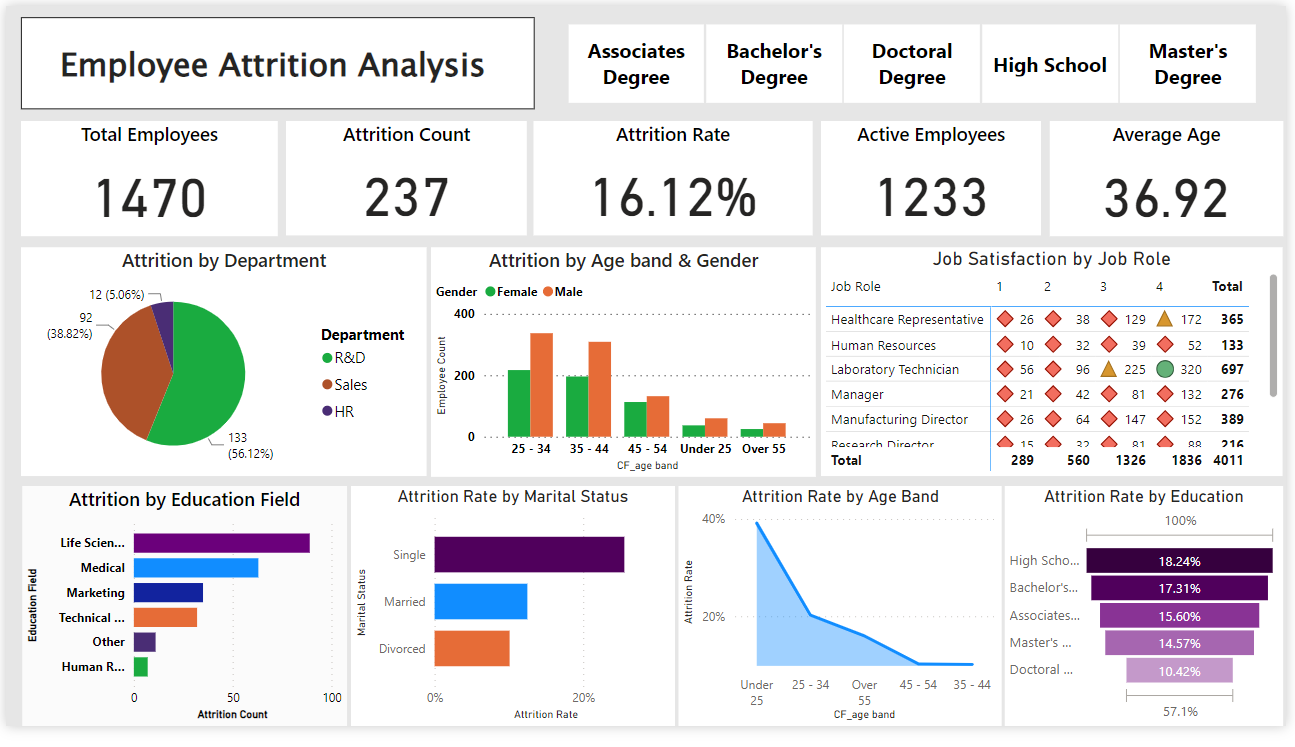

The dashboard page shown, as its layout file describes it:
{"tool":"powerbi","page":{"name":"Page 1","canvas":[1280,720],"ordinal":0},"visuals":[{"type":"card","title":"Total Employees","fields":{"Values":["Sum(HR Data xlsx - HR data.Employee Count)"]},"box":[15,115,256.7,115],"z":0},{"type":"card","title":"Attrition Count","fields":{"Values":["Sum(HR Data xlsx - HR data.Attrition Count)"]},"box":[280,115.6,241.1,114.4],"z":1000},{"type":"card","title":"Attrition Rate","fields":{"Values":["HR Data xlsx - HR data.Attrition Rate"]},"box":[527.8,115.6,278.9,114.4],"z":2000},{"type":"card","title":"Active Employees","fields":{"Values":["HR Data xlsx - HR data.Active Employees"]},"box":[815.6,115.6,220,114.4],"z":3000},{"type":"card","title":"Average Age","fields":{"Values":["Avg(HR Data xlsx - HR data.Age)"]},"box":[1043.3,115,233.3,115],"z":4000},{"type":"pieChart","title":"Attrition by Department","fields":{"Y":["Sum(HR Data xlsx - HR data.Attrition Count)"],"Category":["HR Data xlsx - HR data.Department"]},"box":[15.3,241.6,405.8,228.4],"z":5000},{"type":"clusteredColumnChart","title":"Attrition by Age band & Gender","fields":{"Category":["HR Data xlsx - HR data.CF_age band"],"Y":["Sum(HR Data xlsx - HR data.Employee Count)"],"Series":["HR Data xlsx - HR data.Gender"]},"box":[425.3,241.1,384.7,229.5],"z":6000},{"type":"barChart","title":"Attrition by Education Field","fields":{"Category":["HR Data xlsx - HR data.Education Field"],"Y":["Sum(HR Data xlsx - HR data.Attrition Count)"]},"box":[15.7,480,324.4,240],"z":7000},{"type":"textbox","box":[15.1,11,513.6,92],"z":12000},{"type":"slicer","fields":{"Values":["HR Data xlsx - HR data.Education"]},"box":[536.2,11.2,737.5,92.5],"z":13000},{"type":"pivotTable","title":"Job Satisfaction by Job Role","fields":{"Rows":["HR Data xlsx - HR data.Job Role"],"Columns":["HR Data xlsx - HR data.Job Satisfaction"],"Values":["Sum(HR Data xlsx - HR data.Job Satisfaction)"]},"box":[815.3,241.2,461.9,229.1],"z":14000},{"type":"clusteredBarChart","fields":{"Y":["HR Data xlsx - HR data.Attrition Rate"],"Category":["HR Data xlsx - HR data.Marital Status"]},"box":[345,480,323.8,240],"z":14001},{"type":"areaChart","title":"Attrition Rate by Age Band","fields":{"Y":["HR Data xlsx - HR data.Attrition Rate"],"Category":["HR Data xlsx - HR data.CF_age band"]},"box":[672.7,480.1,323.5,239.9],"z":14002},{"type":"funnel","fields":{"Y":["Dataset.Attrition Rate"],"Category":["Dataset.Education"]},"box":[999.4,480.1,278.1,239.9],"z":14003}]}

Visuals, with their boxes in screenshot pixels (x1, y1, x2, y2), scaled from the page's 1280x720 canvas onto the 1295x747 screenshot:
"Total Employees" card: [left=15, top=119, right=275, bottom=239]
"Attrition Count" card: [left=283, top=120, right=527, bottom=239]
"Attrition Rate" card: [left=534, top=120, right=816, bottom=239]
"Active Employees" card: [left=825, top=120, right=1048, bottom=239]
"Average Age" card: [left=1056, top=119, right=1292, bottom=239]
"Attrition by Department" pieChart: [left=15, top=251, right=426, bottom=488]
"Attrition by Age band & Gender" clusteredColumnChart: [left=430, top=250, right=819, bottom=488]
"Attrition by Education Field" barChart: [left=16, top=498, right=344, bottom=746]
textbox: [left=15, top=11, right=535, bottom=107]
slicer - HR Data xlsx - HR data.Education: [left=542, top=12, right=1289, bottom=108]
"Job Satisfaction by Job Role" pivotTable: [left=825, top=250, right=1292, bottom=488]
clusteredBarChart - HR Data xlsx - HR data.Attrition Rate x HR Data xlsx - HR data.Marital Status: [left=349, top=498, right=677, bottom=746]
"Attrition Rate by Age Band" areaChart: [left=681, top=498, right=1008, bottom=746]
funnel - Dataset.Attrition Rate x Dataset.Education: [left=1011, top=498, right=1292, bottom=746]
